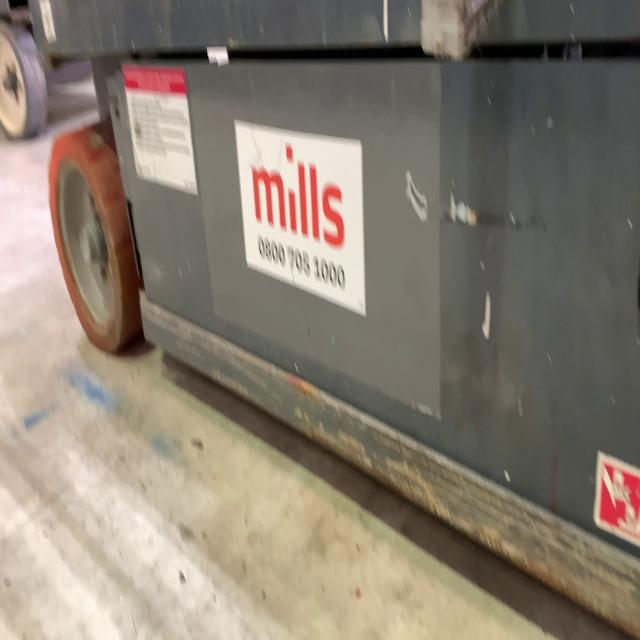Adesivos: (232, 115, 368, 320)
